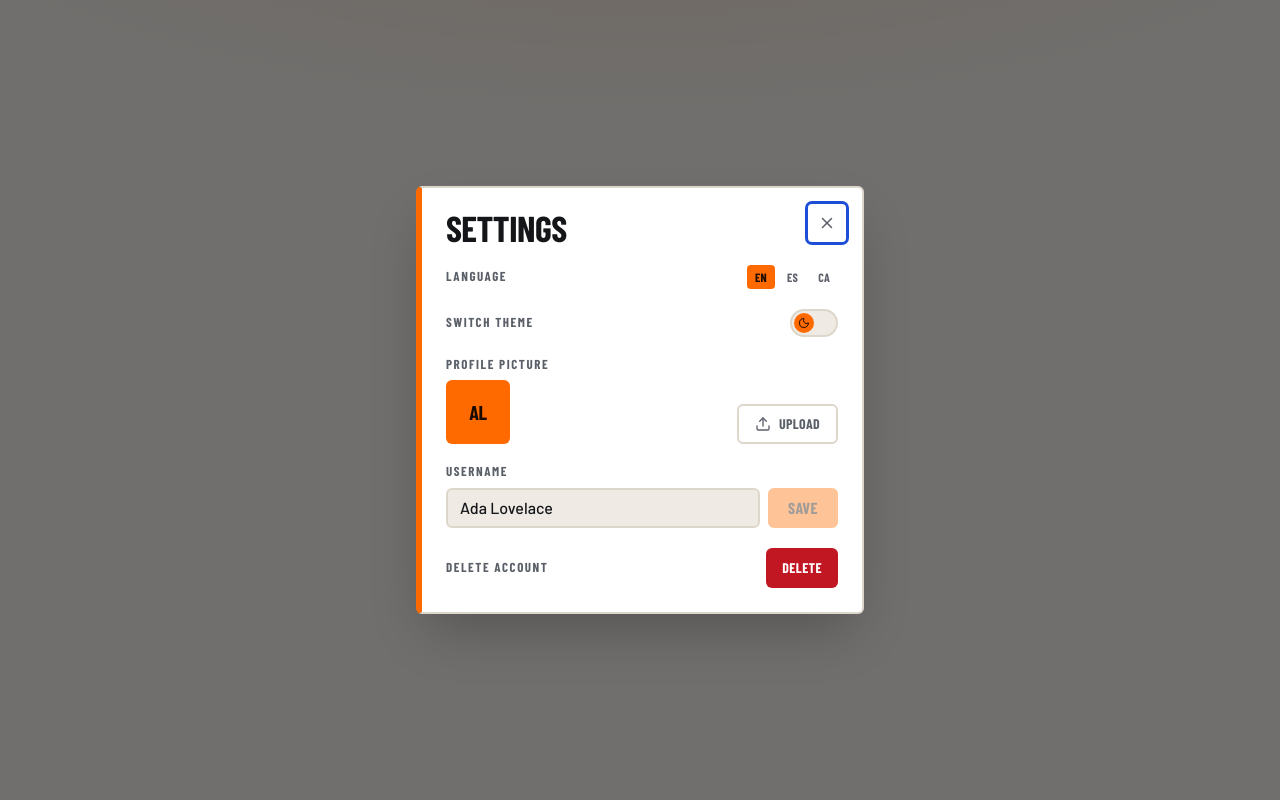
it: SettingsModal username › cannot be saved until it changes
The image size is (1280, 800).
Check: the button "Save" is disabled, box [768,488,838,528]
Replace the text in the field named "Username" with "Ada L" at (603, 508), box [446,488,760,528]
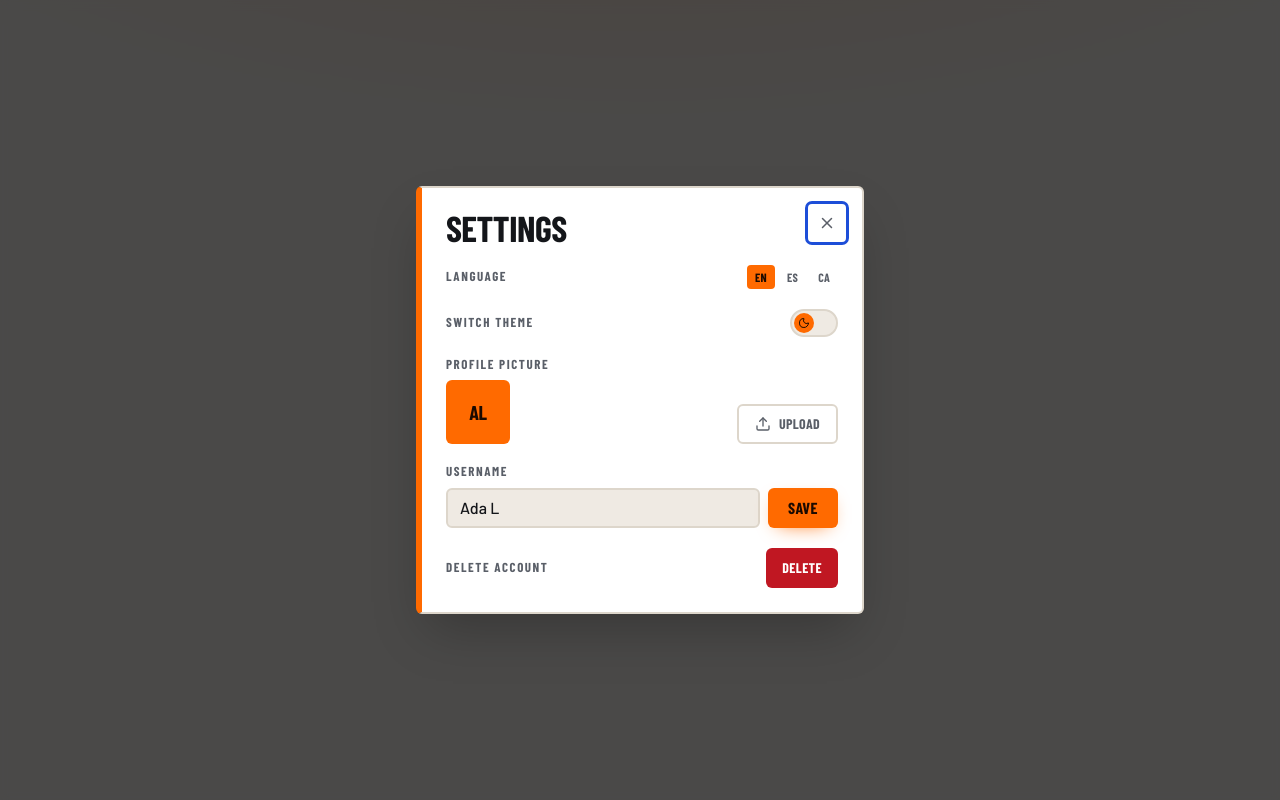
Check: the button "Save" is enabled, box [768,488,838,528]
